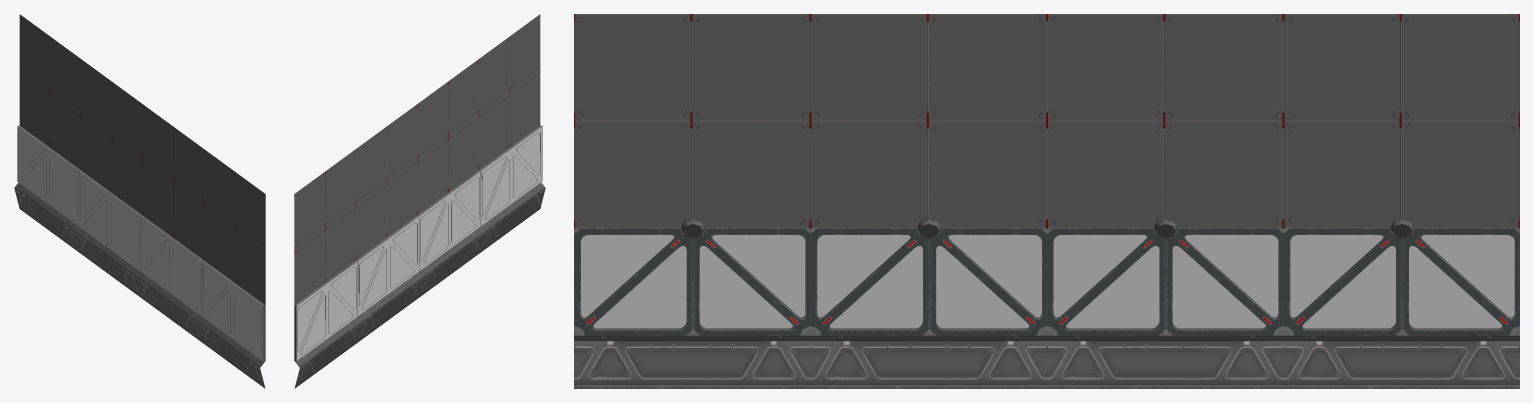
File: wall_05_bottom.fbx
3 views of the same model, side by side, from view 1: azimuth 30°, elevation 25°; view 2: azimuth 150°, elevation 25°; view 3: azimuth 270°, elevation 25° (orthographic). The views are drawn at different scales.
Parts seen in each view (by area): view 1: wall_05_bottom; view 2: wall_05_bottom; view 3: wall_05_bottom.
Part boxes in pixels (<box>): wall_05_bottom: <box>14,14,265,388</box>; wall_05_bottom: <box>294,14,545,388</box>; wall_05_bottom: <box>574,14,1519,388</box>.
Size of the model in its own units: 32.01 by 700 by 1600.
Materials: 5 (4 with a texture image).
